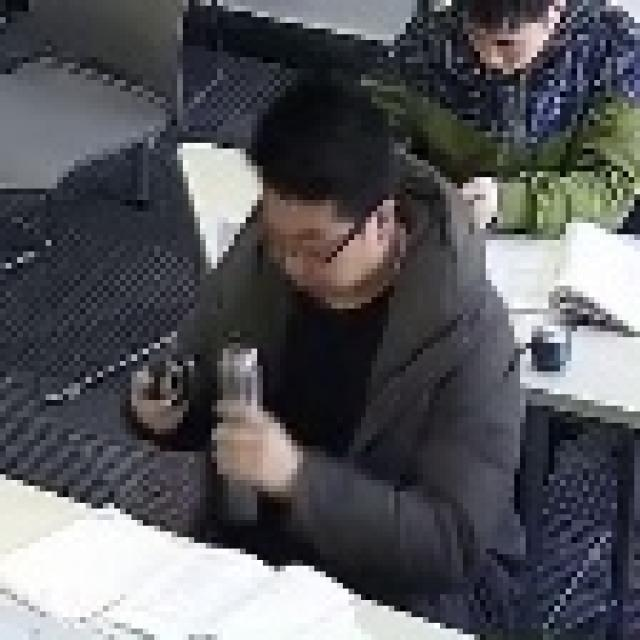drink: (153, 61, 519, 555)
